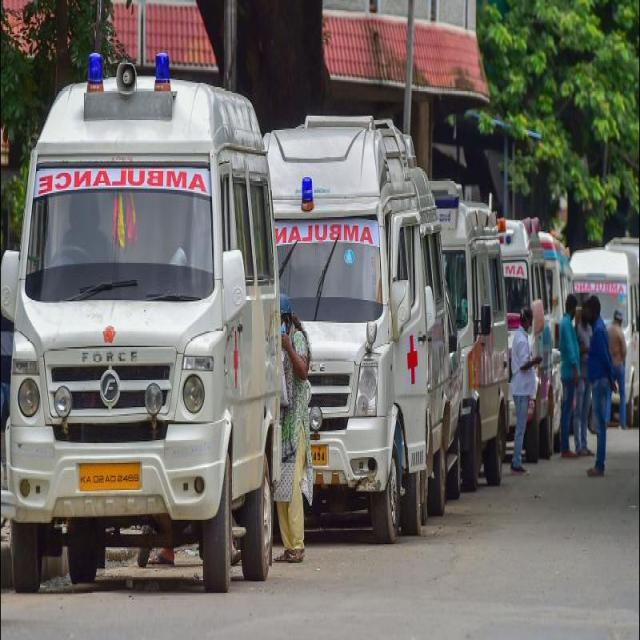ambulance: (9, 52, 281, 594), (264, 113, 440, 548), (434, 177, 508, 487), (570, 247, 640, 420), (499, 217, 541, 470), (536, 230, 578, 440)
